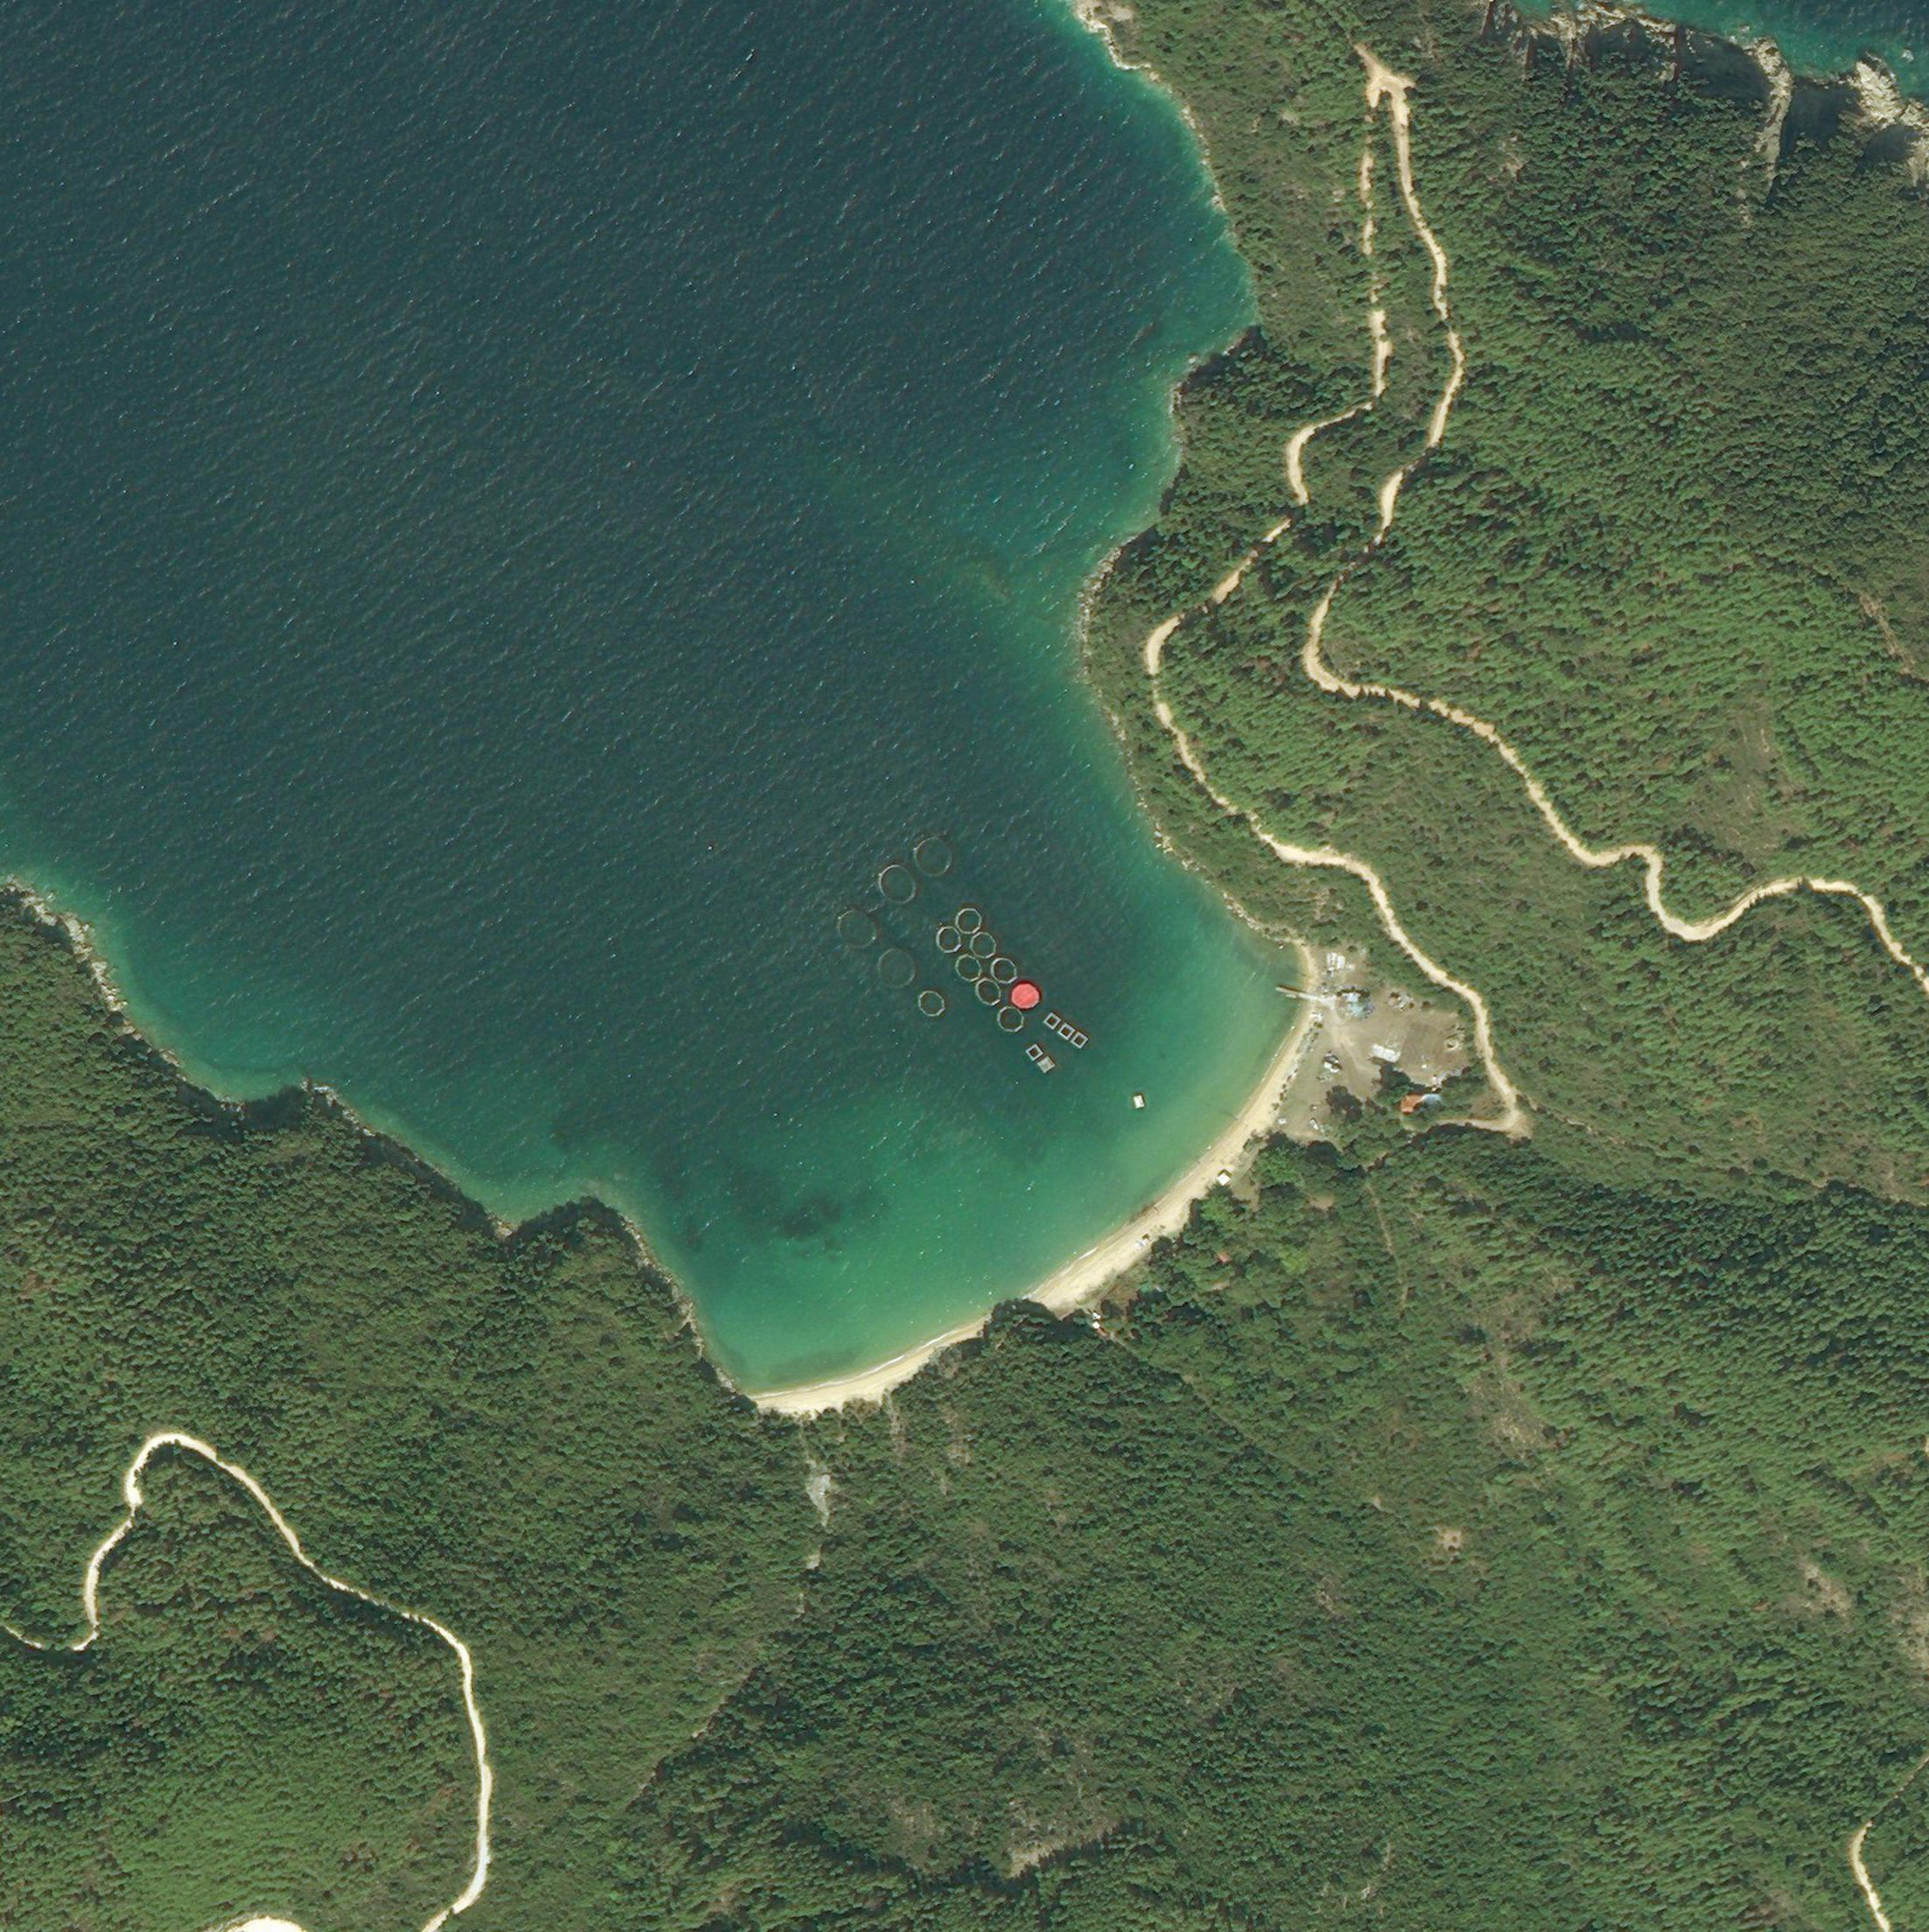c: (837, 909, 878, 950), (878, 950, 915, 989), (915, 835, 950, 876), (880, 865, 917, 902)
